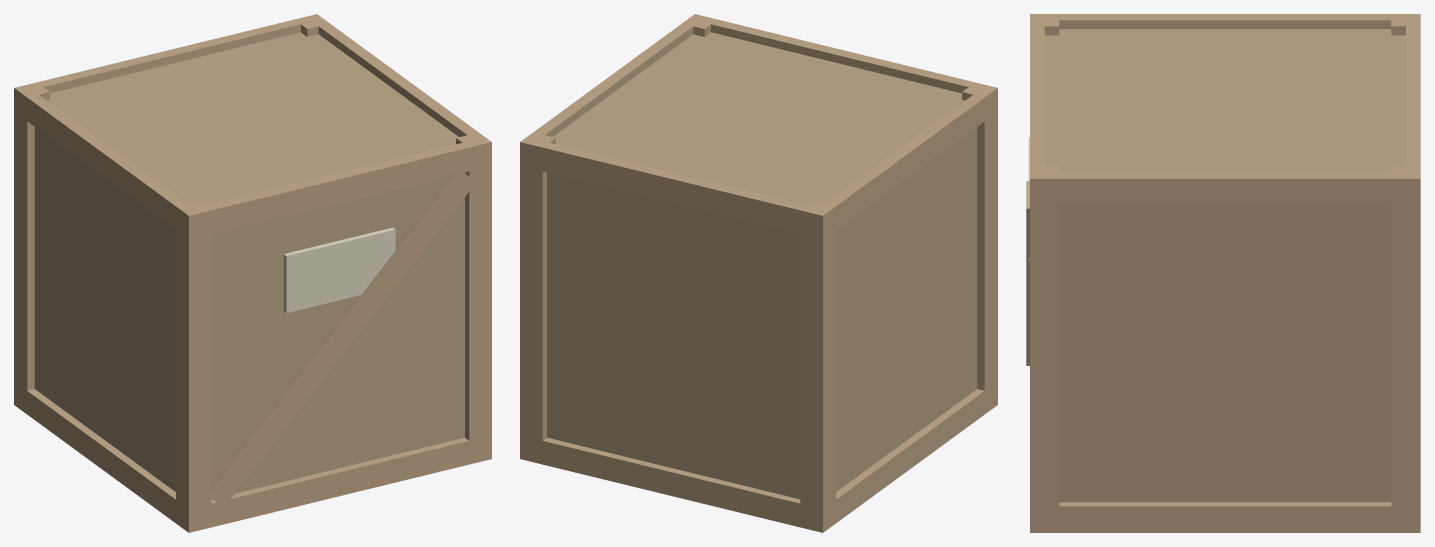
Rendered from furn_crate_small.fbx.
The picture shows the model from 3 angles, left to right: view 1: azimuth 30°, elevation 25°; view 2: azimuth 150°, elevation 25°; view 3: azimuth 270°, elevation 25°; orthographic projection. The views are drawn at different scales.
Visible parts, largest first — view 1: furn_crate_small; view 2: furn_crate_small; view 3: furn_crate_small.
Part boxes in pixels (x1,y1,x2,y2): furn_crate_small: (14,14,491,532); furn_crate_small: (520,14,997,532); furn_crate_small: (1026,14,1420,532).
Size of the model in its own units: 0.8 by 0.8 by 0.8075.
